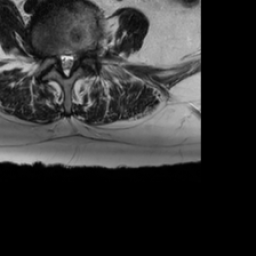CCS_normal: (62, 47, 69, 82)
LFS_severe_stenosis: (77, 42, 85, 66)
LLS_stenosis: (69, 48, 77, 72)
RFS_severe_stenosis: (47, 44, 55, 66)
RLS_severe_stenosis: (55, 47, 62, 71)
